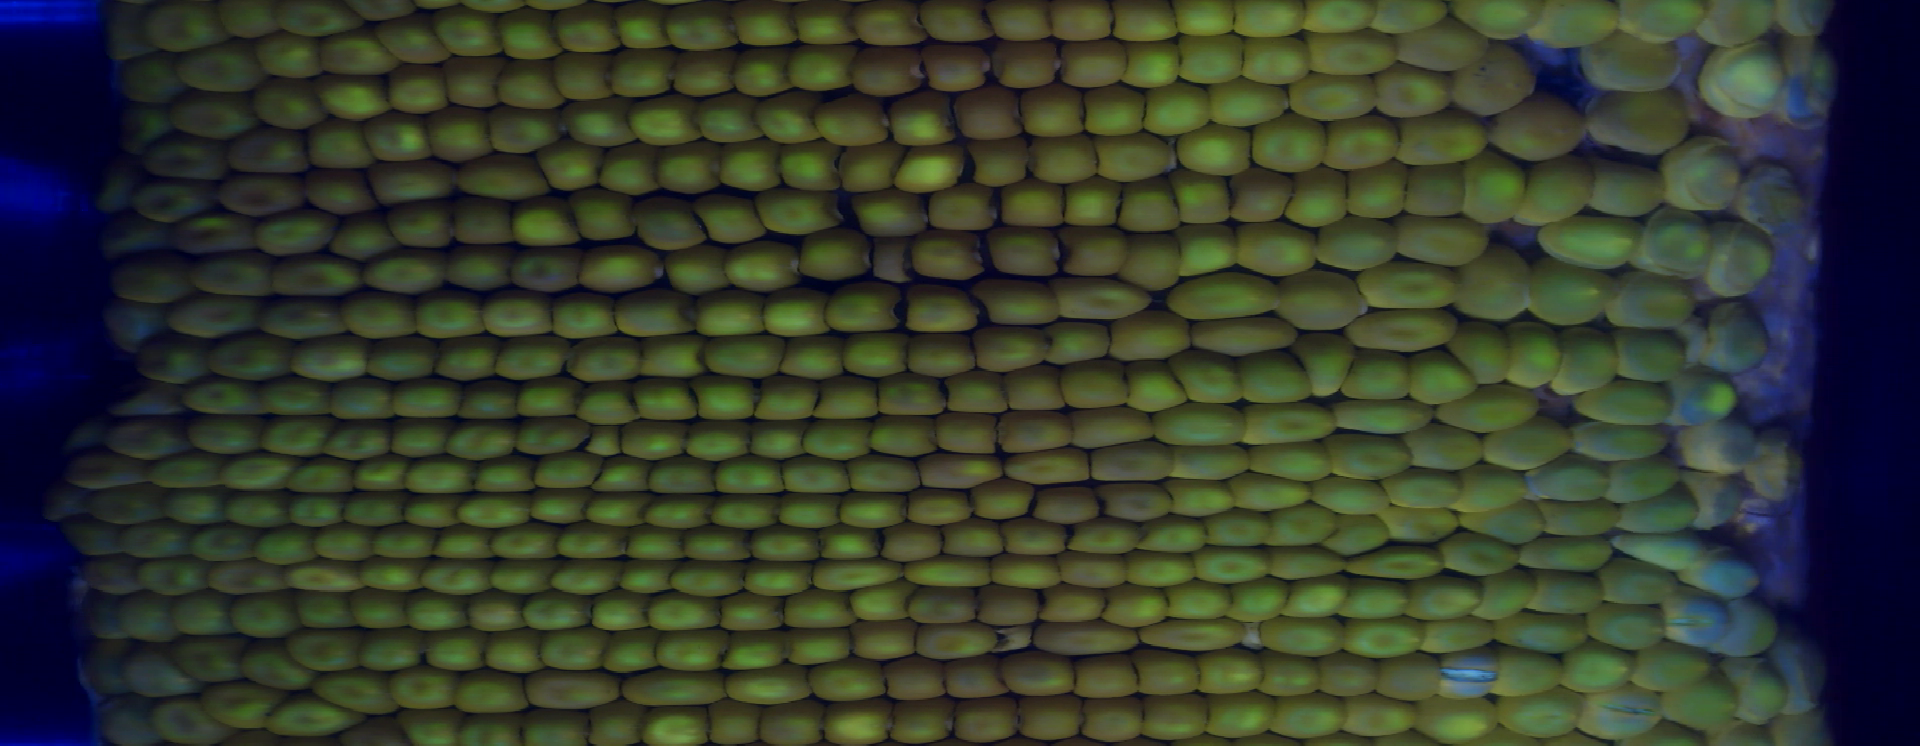fluorescent: (1584, 91, 1696, 156), (1518, 153, 1596, 234), (1580, 34, 1686, 92), (1536, 218, 1638, 276), (1700, 43, 1777, 118), (1589, 147, 1667, 220), (1483, 97, 1589, 149), (1664, 134, 1734, 213), (1400, 211, 1484, 274), (1344, 307, 1457, 355), (1168, 272, 1283, 318), (1463, 42, 1534, 116), (1703, 213, 1767, 296), (156, 292, 258, 343), (1551, 326, 1621, 401), (371, 375, 467, 428), (1703, 300, 1767, 379), (1637, 214, 1718, 276), (1734, 159, 1802, 230), (1397, 24, 1496, 73), (1198, 688, 1281, 746), (1234, 225, 1321, 281), (1611, 271, 1690, 330), (1453, 258, 1532, 317), (1247, 114, 1326, 171), (1358, 266, 1453, 314), (1777, 42, 1837, 118), (89, 260, 195, 303), (1134, 78, 1210, 137), (1284, 76, 1378, 124), (1316, 214, 1402, 266), (1392, 118, 1484, 165), (1053, 278, 1150, 323), (1138, 692, 1218, 746), (253, 292, 342, 341), (1016, 82, 1087, 142), (342, 289, 424, 341), (1341, 162, 1408, 224), (1676, 468, 1745, 529), (1308, 24, 1397, 71), (1100, 130, 1180, 181), (251, 211, 338, 258), (818, 282, 905, 330), (1112, 356, 1187, 412), (164, 96, 257, 140), (1329, 114, 1400, 171), (632, 192, 703, 250), (1193, 316, 1293, 356), (1593, 556, 1682, 601), (770, 142, 844, 197), (170, 217, 267, 258), (926, 37, 996, 94), (944, 88, 1024, 138), (1528, 2, 1621, 45), (973, 278, 1057, 326), (1532, 256, 1597, 317), (1741, 428, 1795, 501), (1108, 176, 1177, 234), (1695, 1, 1784, 45), (969, 136, 1040, 191), (1466, 158, 1524, 224), (1370, 71, 1453, 118), (144, 136, 225, 184), (751, 697, 831, 745), (1613, 323, 1682, 379), (725, 243, 803, 292), (369, 11, 440, 65), (1240, 34, 1311, 88), (1695, 530, 1753, 595), (1282, 279, 1358, 330), (977, 578, 1053, 628), (1660, 594, 1729, 649), (899, 288, 980, 334), (1431, 390, 1540, 424), (522, 673, 620, 710), (1041, 314, 1113, 365), (497, 334, 571, 385), (1229, 352, 1303, 402), (1113, 311, 1190, 359), (1573, 424, 1670, 462), (577, 252, 670, 292), (1347, 692, 1414, 746), (1482, 423, 1571, 463), (1571, 383, 1676, 418), (898, 145, 966, 197), (1728, 660, 1787, 722), (218, 176, 310, 216), (804, 98, 883, 143), (1135, 621, 1247, 653), (253, 81, 326, 130), (661, 2, 737, 49), (193, 559, 287, 597), (508, 243, 577, 294), (551, 294, 620, 345), (179, 53, 263, 94), (1242, 445, 1329, 485), (1589, 601, 1663, 649), (1506, 608, 1586, 652), (504, 197, 574, 247), (916, 229, 986, 279), (321, 69, 386, 122), (1378, 653, 1442, 707), (1583, 688, 1660, 734), (1678, 424, 1744, 477), (891, 559, 997, 592), (91, 488, 174, 529), (1611, 4, 1700, 43), (847, 51, 926, 96), (1153, 410, 1242, 450), (492, 105, 561, 156), (1206, 81, 1282, 126), (687, 94, 757, 143), (410, 294, 484, 341), (636, 334, 705, 383), (1329, 432, 1413, 473), (1416, 699, 1495, 742), (1457, 1, 1544, 40), (1605, 463, 1682, 507), (300, 118, 366, 169), (1242, 407, 1344, 440), (929, 414, 1000, 462), (1029, 621, 1135, 653), (1009, 698, 1080, 746), (1171, 168, 1228, 227), (448, 200, 516, 250), (804, 227, 866, 282), (293, 343, 373, 385), (1180, 131, 1253, 178), (883, 100, 951, 149), (1609, 530, 1703, 566), (1074, 701, 1150, 745), (626, 379, 696, 426), (1660, 675, 1734, 720), (1058, 363, 1131, 408), (1402, 359, 1476, 404), (360, 249, 442, 289), (618, 294, 689, 341), (324, 379, 399, 423), (850, 1, 918, 49), (482, 294, 551, 342), (137, 176, 218, 217), (1524, 568, 1600, 611), (103, 420, 189, 458), (1087, 443, 1173, 481), (553, 4, 620, 53), (1457, 326, 1512, 385), (853, 617, 920, 666), (497, 10, 558, 62), (1498, 692, 1577, 733), (220, 134, 305, 171), (689, 294, 764, 337), (820, 701, 895, 744), (456, 159, 549, 194), (902, 330, 971, 376), (1531, 459, 1603, 503), (922, 454, 1003, 494), (673, 47, 735, 98), (1232, 477, 1318, 513), (855, 197, 934, 236), (1054, 40, 1131, 81), (91, 216, 168, 256), (184, 418, 261, 458), (202, 688, 284, 726), (1566, 649, 1635, 695), (58, 454, 148, 489), (924, 189, 997, 232), (731, 5, 797, 51), (138, 339, 208, 383), (1619, 491, 1700, 529), (1635, 646, 1708, 687), (1228, 178, 1291, 227), (1029, 484, 1102, 526), (116, 657, 179, 706), (1168, 225, 1236, 271), (948, 701, 1015, 746), (541, 142, 599, 195), (1513, 320, 1553, 397), (992, 230, 1060, 274), (1102, 481, 1171, 526), (1538, 495, 1618, 533), (129, 560, 203, 600), (512, 706, 587, 746), (809, 559, 891, 595), (790, 42, 850, 92), (574, 195, 634, 245), (920, 617, 992, 659), (1234, 1, 1300, 47), (1060, 229, 1127, 274), (721, 631, 787, 676), (1040, 134, 1102, 181), (1438, 653, 1500, 701), (1367, 1, 1442, 40), (1309, 475, 1387, 513), (448, 56, 500, 114), (971, 330, 1042, 371), (538, 631, 609, 673), (366, 169, 456, 202), (429, 10, 497, 53), (1724, 597, 1773, 657), (653, 149, 721, 192), (999, 418, 1068, 461), (1273, 695, 1342, 737), (845, 454, 922, 492), (1112, 1, 1184, 42), (160, 481, 227, 526), (947, 372, 1016, 414), (996, 187, 1063, 230), (268, 265, 362, 295), (482, 559, 550, 601), (1344, 578, 1408, 624), (148, 454, 224, 492), (1382, 505, 1458, 543), (1413, 432, 1487, 472), (324, 223, 396, 263), (212, 343, 293, 379), (156, 7, 216, 55), (760, 296, 825, 341), (983, 1, 1052, 43), (424, 114, 492, 156), (1435, 537, 1512, 573), (996, 39, 1058, 85), (1269, 549, 1348, 584), (561, 105, 631, 146), (658, 633, 721, 677), (916, 1, 983, 43), (621, 673, 725, 699), (1408, 579, 1479, 619), (912, 586, 977, 628), (125, 597, 178, 649), (615, 5, 669, 56), (692, 382, 760, 423), (573, 383, 636, 428), (782, 456, 849, 497), (1195, 653, 1261, 695), (708, 342, 782, 379), (670, 565, 747, 600), (758, 197, 838, 232), (1003, 369, 1067, 412), (628, 104, 696, 145), (1129, 236, 1174, 296), (1082, 85, 1134, 137), (676, 245, 729, 296), (504, 62, 560, 111), (386, 69, 447, 113), (842, 142, 898, 191), (600, 146, 655, 195), (447, 250, 508, 294), (876, 379, 951, 414), (1200, 508, 1271, 546), (119, 527, 195, 562), (547, 559, 618, 597), (261, 36, 318, 82), (573, 341, 636, 383), (749, 379, 812, 421), (1499, 652, 1561, 695), (1067, 658, 1139, 695), (433, 345, 497, 387), (228, 489, 291, 530), (174, 642, 238, 684), (424, 559, 493, 597), (1191, 550, 1269, 584), (721, 143, 774, 194), (1406, 160, 1455, 214), (1453, 465, 1521, 505), (1348, 549, 1438, 578), (612, 55, 673, 98), (1773, 1, 1838, 42), (313, 681, 396, 713), (195, 258, 268, 294), (403, 459, 476, 495), (358, 636, 429, 673), (602, 630, 660, 675), (93, 301, 156, 343), (842, 337, 905, 379), (787, 7, 853, 47), (866, 421, 932, 461), (456, 492, 534, 526), (634, 707, 700, 746), (100, 11, 153, 60), (1333, 359, 1406, 394), (683, 418, 751, 456), (1338, 624, 1425, 653), (310, 169, 366, 214), (1182, 360, 1238, 405), (976, 479, 1032, 524), (1009, 446, 1086, 479), (283, 565, 366, 595), (451, 383, 516, 423), (260, 416, 324, 456), (463, 597, 528, 636), (1183, 34, 1240, 78), (1297, 1, 1376, 33), (362, 120, 425, 160), (647, 494, 718, 529), (839, 495, 910, 530), (195, 527, 266, 562), (708, 197, 758, 247), (733, 58, 792, 100), (1289, 175, 1341, 224), (1173, 445, 1242, 481), (295, 636, 364, 673), (1097, 590, 1173, 624), (460, 708, 527, 746), (782, 337, 842, 379), (891, 699, 948, 744), (1776, 636, 1810, 708), (277, 4, 358, 34), (804, 420, 866, 461), (729, 666, 809, 697), (648, 597, 722, 630), (1262, 619, 1337, 652), (563, 55, 612, 105), (1680, 372, 1731, 420), (83, 159, 131, 211), (851, 582, 910, 624), (179, 598, 238, 639), (1002, 655, 1064, 695), (268, 706, 348, 736), (529, 454, 595, 491), (358, 560, 424, 597), (1068, 418, 1153, 446), (1524, 537, 1607, 566), (718, 456, 782, 492), (909, 489, 973, 526), (109, 385, 184, 416), (389, 209, 448, 250), (238, 595, 291, 639), (224, 453, 287, 491), (393, 673, 456, 710), (1420, 624, 1489, 658), (182, 383, 253, 416), (253, 383, 324, 416), (1122, 555, 1193, 588), (787, 631, 853, 666), (1316, 657, 1373, 698), (1139, 653, 1195, 695), (1157, 589, 1231, 621), (126, 53, 179, 97), (811, 388, 880, 421), (811, 668, 889, 697), (710, 499, 782, 530), (73, 559, 129, 600), (213, 1, 273, 39), (1051, 1, 1107, 42), (1231, 581, 1287, 621), (1337, 408, 1425, 434), (1168, 479, 1234, 513), (283, 491, 347, 527), (748, 420, 806, 459), (1042, 587, 1100, 626), (749, 102, 811, 138), (386, 423, 447, 459), (1461, 510, 1537, 539), (486, 635, 545, 673), (874, 526, 942, 559), (583, 492, 648, 527), (939, 659, 1002, 695), (110, 105, 160, 149), (295, 598, 355, 635), (426, 636, 486, 673), (1384, 479, 1458, 508), (1131, 40, 1184, 82), (1308, 342, 1349, 394), (703, 704, 756, 746), (367, 345, 433, 379), (456, 677, 522, 710), (447, 428, 516, 459), (741, 563, 809, 595), (399, 601, 463, 636), (1174, 1, 1236, 37), (151, 707, 212, 742), (489, 530, 566, 559), (80, 601, 125, 649), (1273, 508, 1329, 548), (429, 527, 487, 563), (370, 527, 429, 563), (320, 428, 387, 459), (650, 462, 718, 494), (320, 43, 396, 71), (1067, 526, 1139, 555), (355, 589, 402, 635), (529, 598, 593, 631), (512, 382, 573, 416), (1060, 185, 1116, 223), (744, 530, 816, 560), (612, 430, 680, 461), (771, 601, 851, 627), (1261, 657, 1315, 695), (590, 706, 640, 746), (566, 527, 629, 559), (287, 463, 353, 494), (1329, 513, 1384, 550), (1000, 524, 1067, 555), (774, 495, 842, 524), (816, 526, 874, 560), (313, 527, 370, 562), (392, 717, 463, 745), (353, 456, 405, 494), (516, 421, 576, 454), (993, 559, 1057, 589), (618, 560, 671, 597), (399, 491, 456, 526), (528, 491, 584, 526), (593, 589, 640, 630), (238, 657, 309, 684), (347, 495, 407, 527), (253, 530, 313, 562), (889, 659, 939, 697), (1057, 559, 1127, 586), (867, 236, 909, 281), (480, 454, 529, 491), (595, 458, 648, 491), (722, 594, 771, 630), (947, 524, 1000, 556), (84, 652, 116, 706), (1767, 717, 1829, 744), (629, 527, 686, 556), (100, 710, 157, 740), (1292, 586, 1340, 619), (69, 518, 116, 550), (686, 530, 744, 556), (1139, 530, 1200, 555), (1487, 572, 1520, 616), (58, 418, 97, 452), (351, 718, 397, 746), (576, 428, 612, 462), (47, 492, 86, 523)
